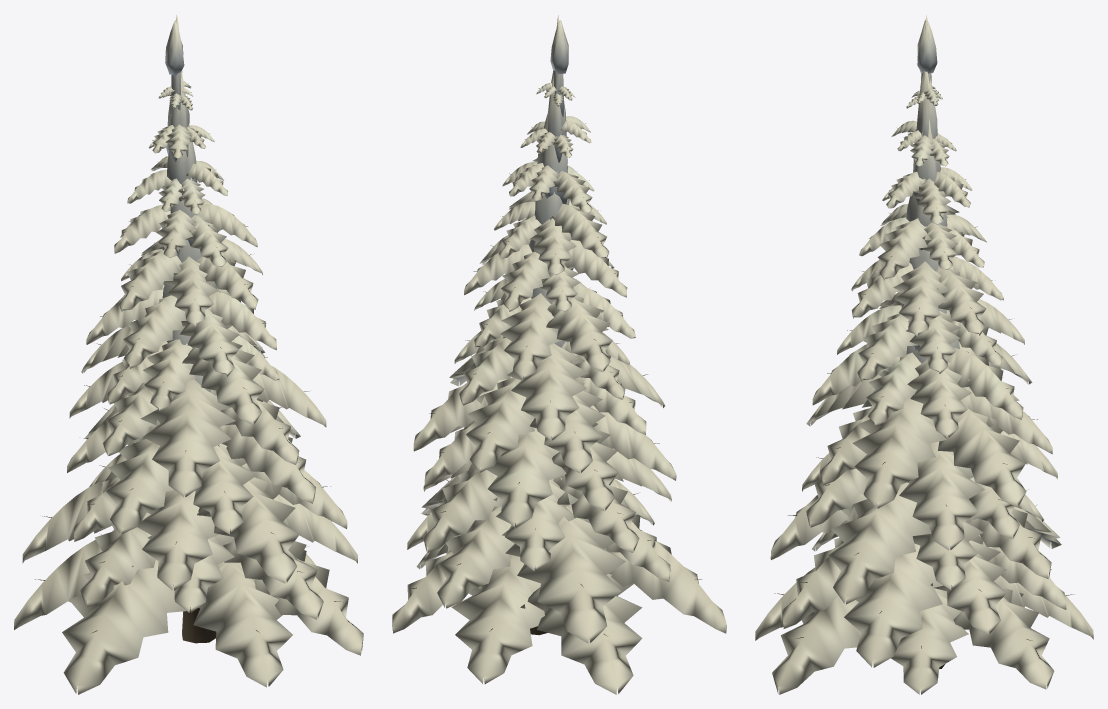
3 views of the same model, side by side, from view 1: azimuth 30°, elevation 25°; view 2: azimuth 150°, elevation 25°; view 3: azimuth 270°, elevation 25° (orthographic). The views are drawn at different scales.
Parts seen in each view (by area): view 1: crown, trunk; view 2: crown; view 3: crown.
Part boxes in pixels (box(x1,y1,x2,y2)): crown: box(14, 15, 363, 694); trunk: box(35, 92, 343, 643); crown: box(392, 15, 726, 694); crown: box(755, 15, 1093, 694).
Bounding box in the file's own units: 7.02 × 14.47 × 6.95.
